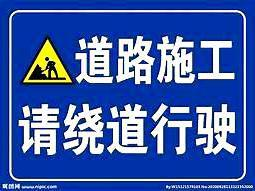sign: (8, 7, 247, 184)
